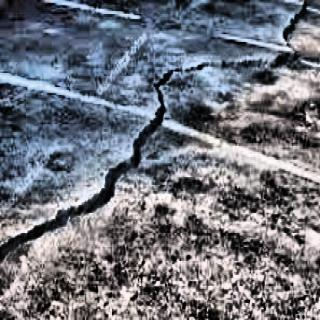crack: (7, 27, 306, 236)
